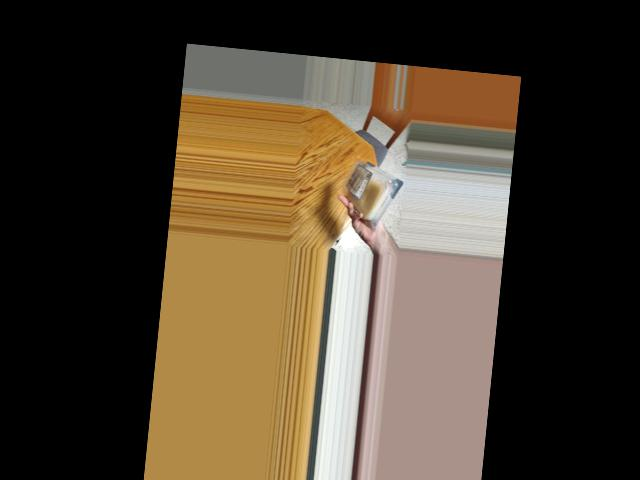cheese: (348, 158, 400, 229)
